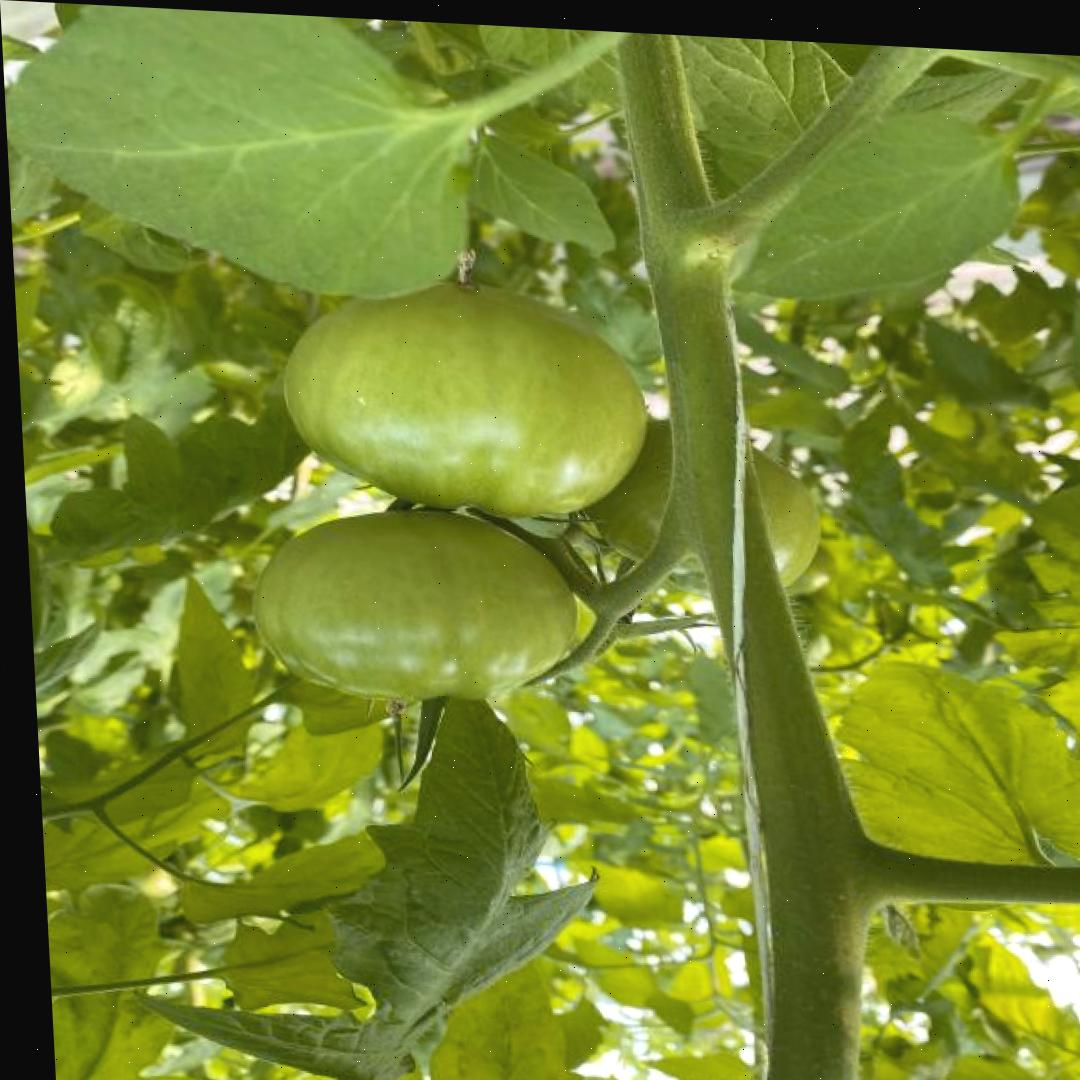mentah: (278, 267, 655, 527), (244, 498, 586, 713)
